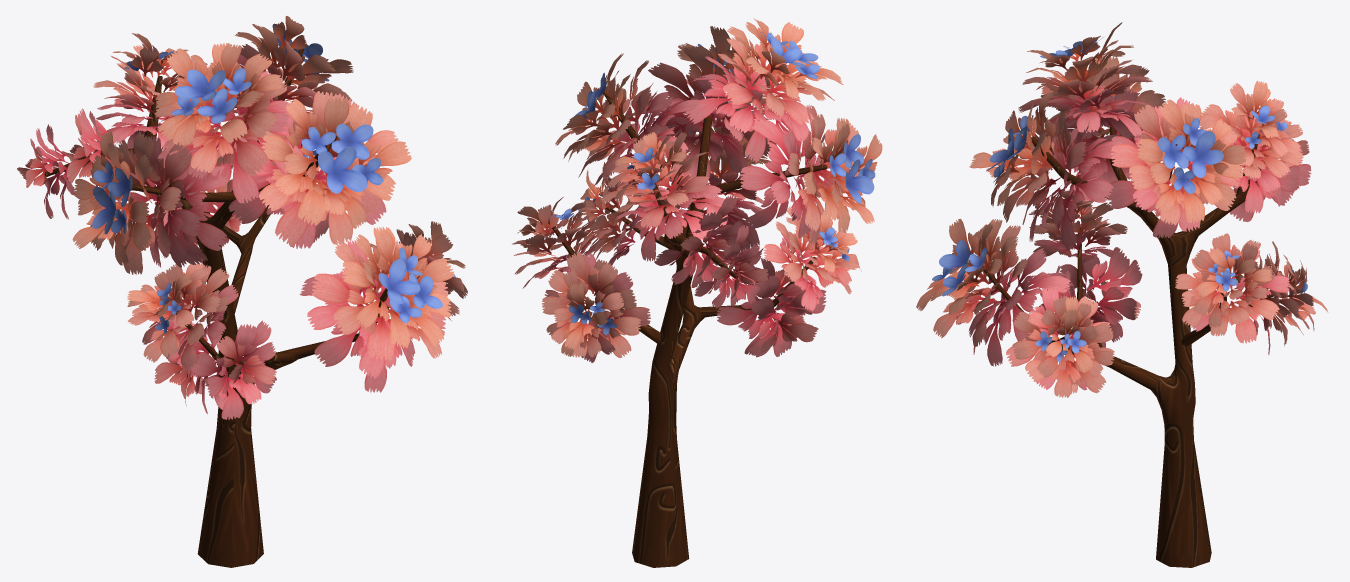
Rendered from pinktree3.fbx.
3 views of the same model, side by side, from view 1: azimuth 30°, elevation 25°; view 2: azimuth 150°, elevation 25°; view 3: azimuth 270°, elevation 25° (orthographic). The views are drawn at different scales.
Parts seen in each view (by area): view 1: TRW1; view 2: TRW1; view 3: TRW1.
Part boxes in pixels (x1,y1,x2,y2): TRW1: (17, 16, 467, 567); TRW1: (512, 18, 882, 567); TRW1: (916, 22, 1328, 567).
Bounding box in the file's own units: 520 × 764 × 579.
